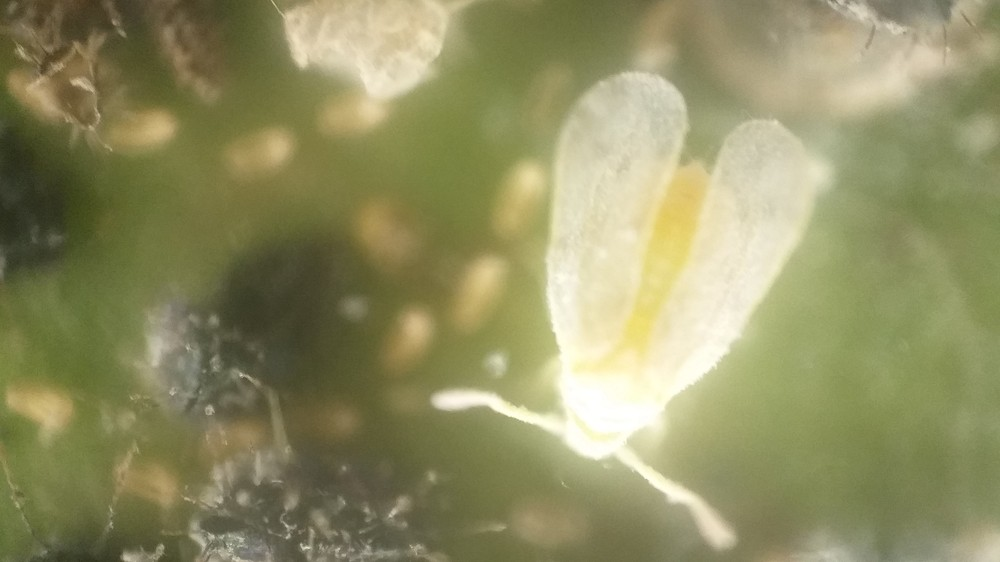Mosca Blanca: (423, 64, 866, 556)
